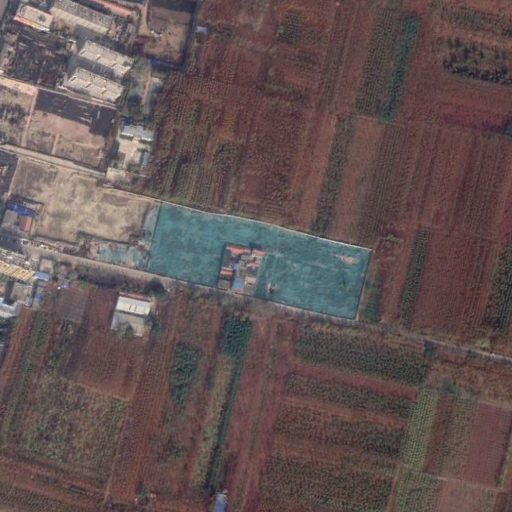cw: (83, 198, 373, 321)
